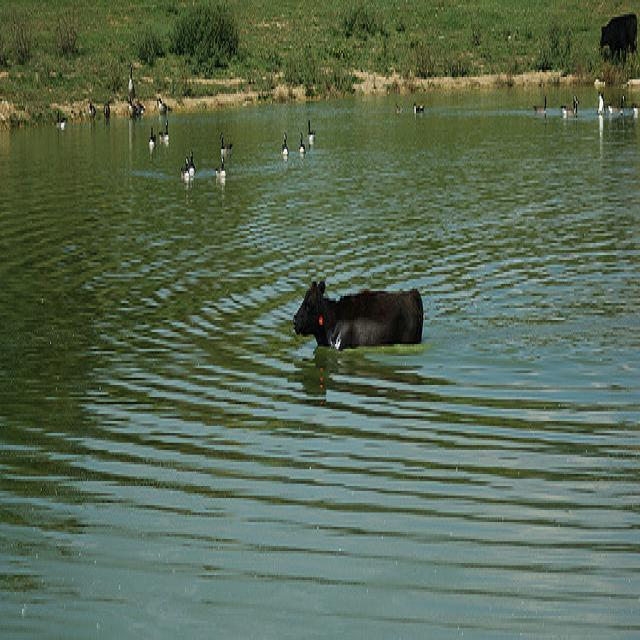cow: (292, 274, 422, 344), (598, 10, 637, 58)
